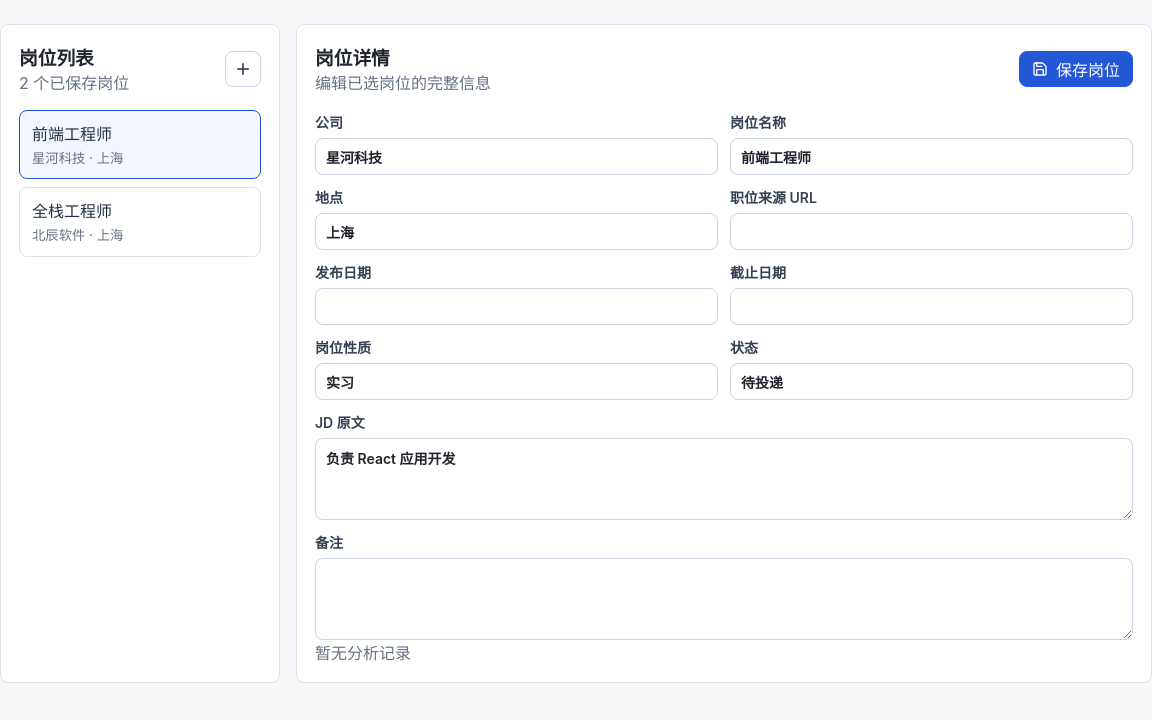
Test: JobsPage › does not show A's late save error after selecting B
Expected: the field showing "前端工程师" is shown, x1=730 y1=138 x2=1133 y2=175
Click the button "保存岗位" at (1076, 68), box x1=1019 y1=50 x2=1133 y2=86
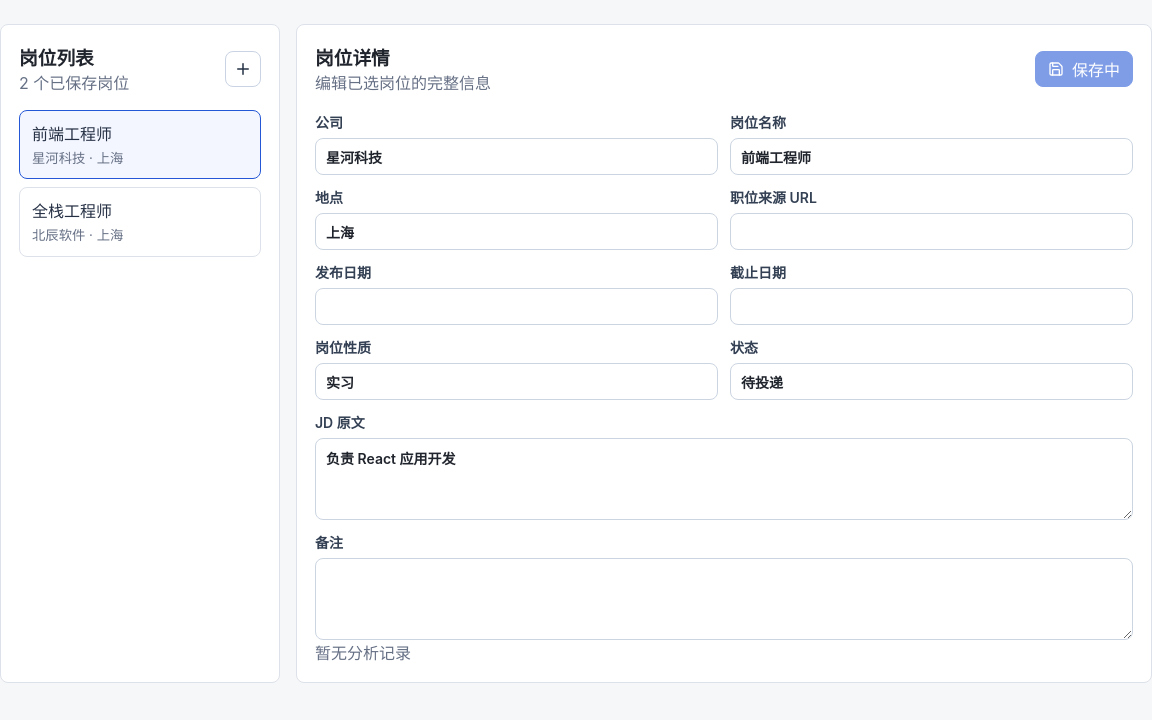
Click the button "全栈工程师 北辰软件 · 上海" at (140, 222), box x1=19 y1=187 x2=261 y2=257
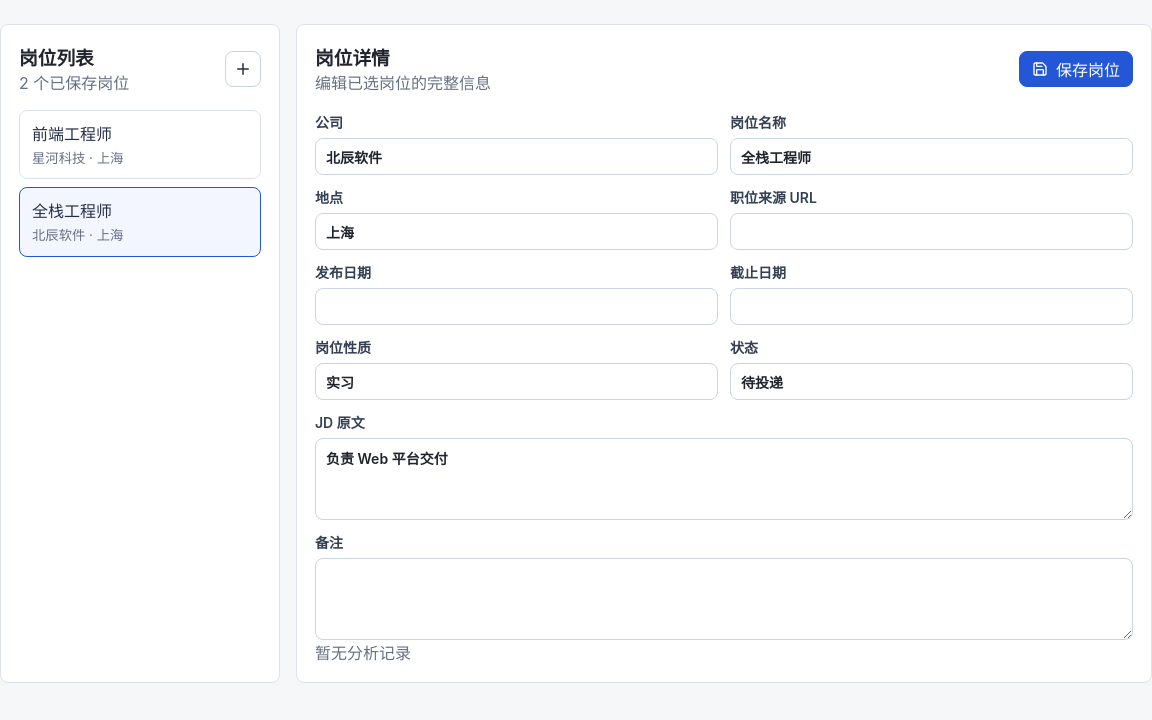
Expected: the field labelled "岗位名称" holds "全栈工程师", x1=730 y1=138 x2=1133 y2=175
